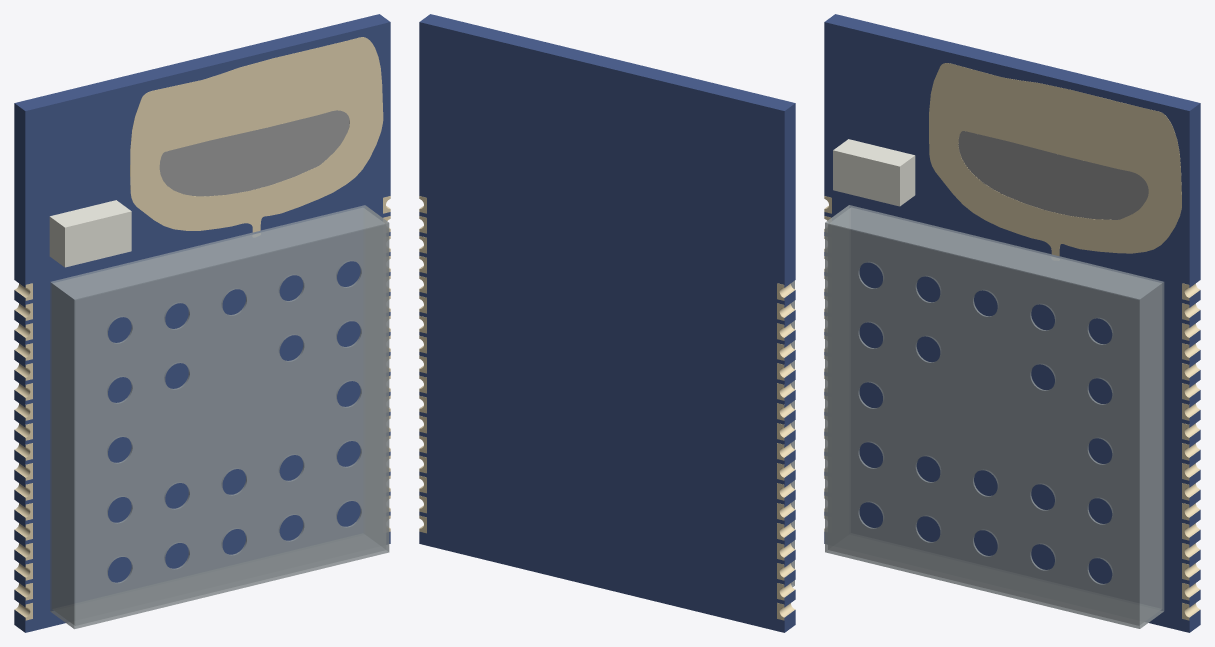
File: DecaWave_DWM1001.glb
The picture shows the model from 3 angles, left to right: view 1: azimuth 30°, elevation 25°; view 2: azimuth 150°, elevation 25°; view 3: azimuth 330°, elevation 25°; orthographic projection.
Parts seen in each view (by area): view 1: Shape_IndexedFaceSet.349, Shape_IndexedFaceSet.373, Shape_IndexedFaceSet.171, Shape_IndexedFaceSet.350, Shape_IndexedFaceSet.386, Shape_IndexedFaceSet.385, Shape_IndexedFaceSet.344, Shape_IndexedFaceSet.345, Shape_IndexedFaceSet.377, Shape_IndexedFaceSet.376, Shape_IndexedFaceSet.388, Shape_IndexedFaceSet.380 (+6 smaller); view 2: Shape_IndexedFaceSet.389, Shape_IndexedFaceSet.388, Shape_IndexedFaceSet.057; view 3: Shape_IndexedFaceSet.349, Shape_IndexedFaceSet.373, Shape_IndexedFaceSet.171, Shape_IndexedFaceSet.350, Shape_IndexedFaceSet.386, Shape_IndexedFaceSet.385, Shape_IndexedFaceSet.348, Shape_IndexedFaceSet.345, Shape_IndexedFaceSet.374, Shape_IndexedFaceSet.376, Shape_IndexedFaceSet.388, Shape_IndexedFaceSet.380 (+6 smaller).
Part boxes in pixels (<box>): Shape_IndexedFaceSet.349: <box>74,223,389,628</box>; Shape_IndexedFaceSet.373: <box>75,225,385,625</box>; Shape_IndexedFaceSet.171: <box>25,22,390,632</box>; Shape_IndexedFaceSet.350: <box>130,37,383,232</box>; Shape_IndexedFaceSet.386: <box>102,242,360,583</box>; Shape_IndexedFaceSet.385: <box>159,110,349,196</box>; Shape_IndexedFaceSet.344: <box>50,282,74,628</box>; Shape_IndexedFaceSet.345: <box>51,205,388,299</box>; Shape_IndexedFaceSet.377: <box>52,284,74,624</box>; Shape_IndexedFaceSet.376: <box>53,208,385,299</box>; Shape_IndexedFaceSet.388: <box>14,14,389,110</box>; Shape_IndexedFaceSet.380: <box>65,211,131,267</box>; Shape_IndexedFaceSet.389: <box>419,22,784,632</box>; Shape_IndexedFaceSet.388: <box>420,14,795,110</box>; Shape_IndexedFaceSet.057: <box>784,103,795,287</box>; Shape_IndexedFaceSet.349: <box>825,223,1139,628</box>; Shape_IndexedFaceSet.373: <box>828,225,1138,625</box>; Shape_IndexedFaceSet.171: <box>824,22,1189,632</box>; Shape_IndexedFaceSet.350: <box>929,63,1181,256</box>; Shape_IndexedFaceSet.386: <box>858,231,1126,583</box>; Shape_IndexedFaceSet.385: <box>958,131,1148,219</box>; Shape_IndexedFaceSet.348: <box>1140,282,1164,628</box>; Shape_IndexedFaceSet.345: <box>825,205,1163,299</box>; Shape_IndexedFaceSet.374: <box>1139,284,1161,625</box>; Shape_IndexedFaceSet.376: <box>829,208,1161,299</box>; Shape_IndexedFaceSet.388: <box>825,14,1200,110</box>; Shape_IndexedFaceSet.380: <box>833,150,899,206</box>.
Size of the model in its own units: 7.53 by 10.28 by 1.26.
